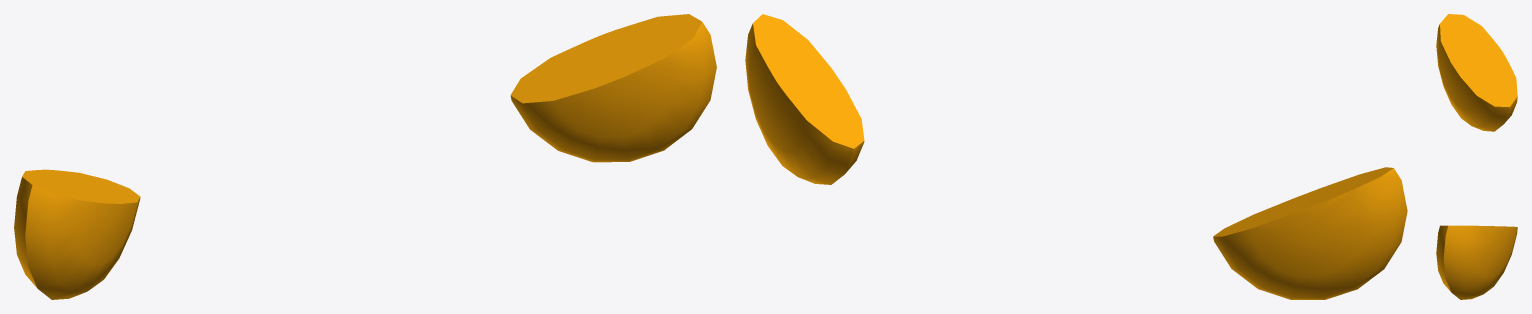
The model's file is Eyes_Mother_Open.fbx.
3 renders of one model, left to right at view 1: azimuth 30°, elevation 25°; view 2: azimuth 150°, elevation 25°; view 3: azimuth 270°, elevation 25°, orthographic. The views are drawn at different scales.
Visible parts, largest first — view 1: Cylinder, Cube; view 2: Cylinder, Cube; view 3: Cylinder, Cube.
Boxes of the visible parts, x1,y1,x2,y2 form: Cylinder: (14, 22, 716, 299); Cube: (22, 14, 701, 203); Cylinder: (745, 23, 1407, 299); Cube: (753, 14, 1393, 236); Cylinder: (1436, 24, 1517, 299); Cube: (1440, 14, 1517, 106).
Size of the model in its own units: 13.74 by 2.66 by 2.16.
1 material, 1 textured.
